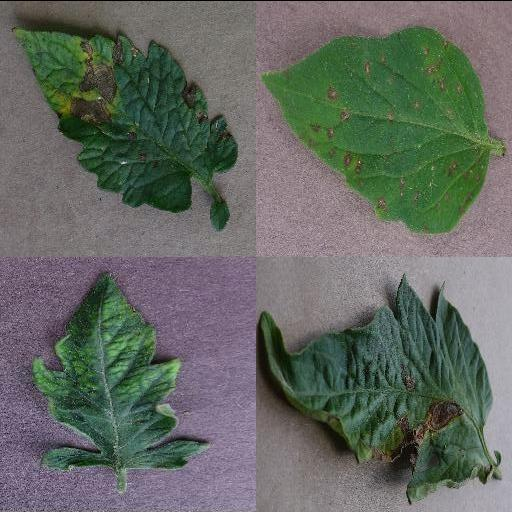Early Blight: (258, 272, 494, 502), (12, 26, 236, 212)
Mosaic Virus: (32, 270, 212, 474)
Septoria: (263, 23, 489, 233)
